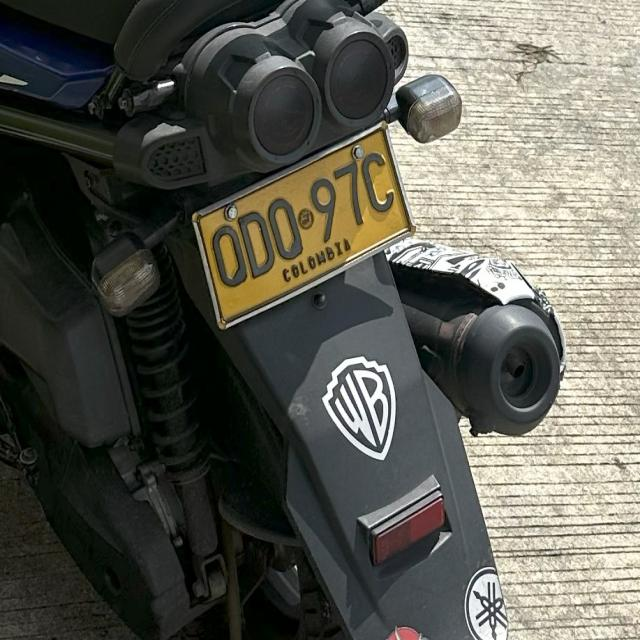number plate: (192, 123, 412, 327)
